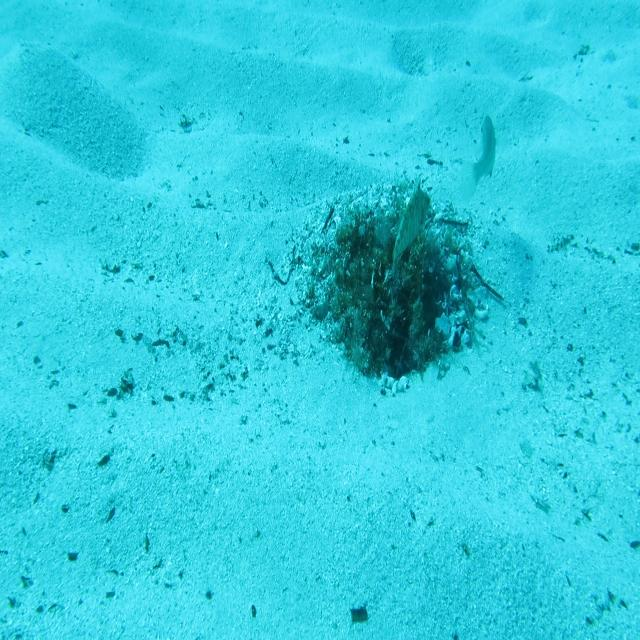LF: (388, 172, 430, 285)
core_nest: (360, 230, 402, 262)
female: (458, 112, 503, 208)
nest: (282, 160, 497, 407)
vegetation: (348, 606, 369, 624)
